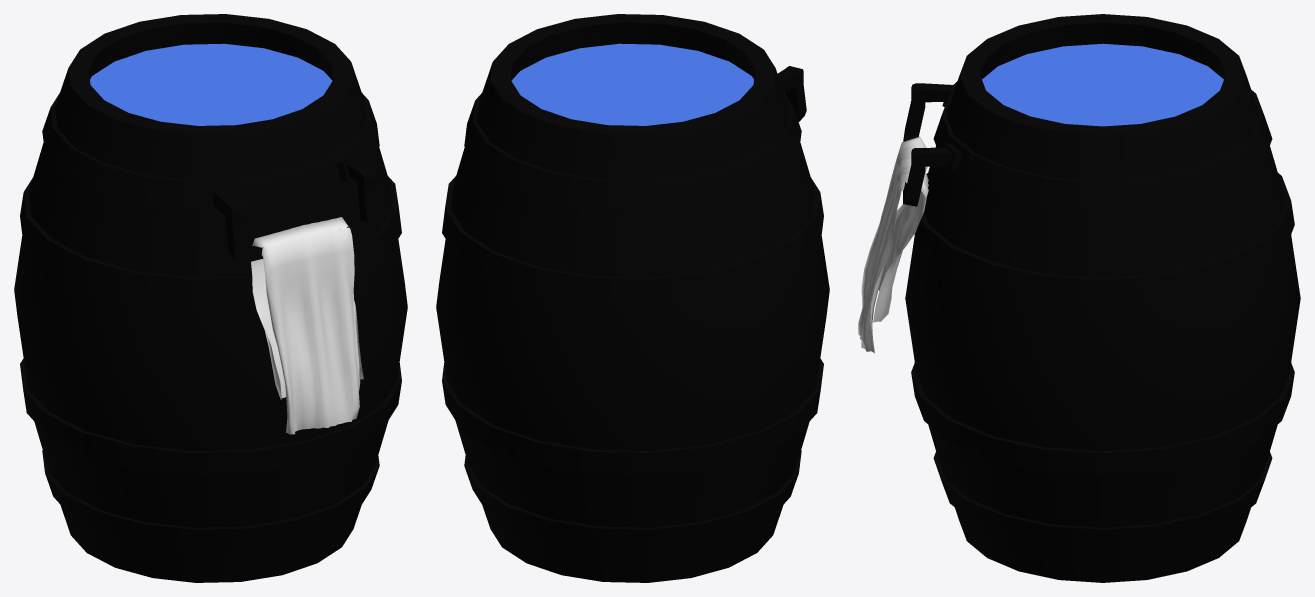
The model's file is sinkBarrel.fbx.
3 renders of one model, left to right at view 1: azimuth 30°, elevation 25°; view 2: azimuth 150°, elevation 25°; view 3: azimuth 270°, elevation 25°, orthographic.
Parts seen in each view (by area): view 1: sinkBarrel1; view 2: sinkBarrel1; view 3: sinkBarrel1.
Boxes of the visible parts, box(x1,y1,x2,y2) form: sinkBarrel1: box(14, 14, 407, 582); sinkBarrel1: box(436, 14, 829, 582); sinkBarrel1: box(858, 14, 1300, 582).
Bounding box in the file's own units: 0.7835 × 0.9794 × 0.8767.
